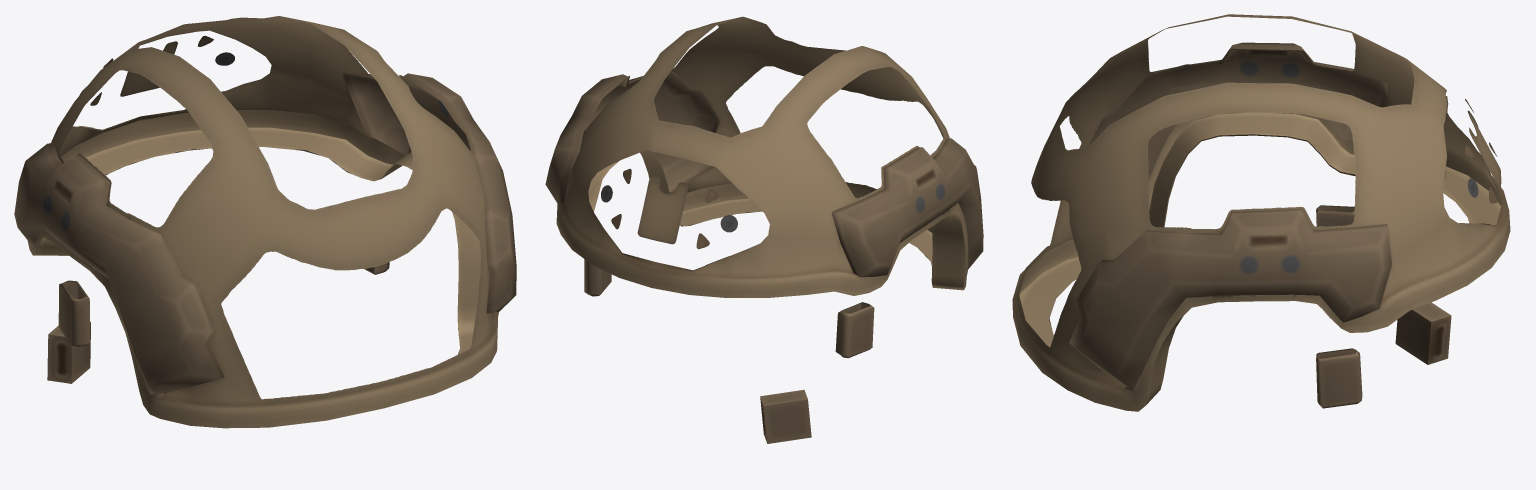
Rendered from IG_Helmat_Lv5-2.fbx.
3 renders of one model, left to right at view 1: azimuth 30°, elevation 25°; view 2: azimuth 150°, elevation 25°; view 3: azimuth 270°, elevation 25°, orthographic. The views are drawn at different scales.
Visible parts, largest first — view 1: TeamWendyEXFIL, TeamWendyEXFIL_Strap; view 2: TeamWendyEXFIL, TeamWendyEXFIL_Strap; view 3: TeamWendyEXFIL, TeamWendyEXFIL_Strap.
Part boxes in pixels (x1,y1,x2,y2): TeamWendyEXFIL: (14,16,516,428); TeamWendyEXFIL_Strap: (47,262,389,383); TeamWendyEXFIL: (545,16,983,297); TeamWendyEXFIL_Strap: (584,259,874,443); TeamWendyEXFIL: (1012,14,1510,411); TeamWendyEXFIL_Strap: (1316,205,1451,408).
Size of the model in its own units: 0.6306 by 0.6245 by 0.6776.
